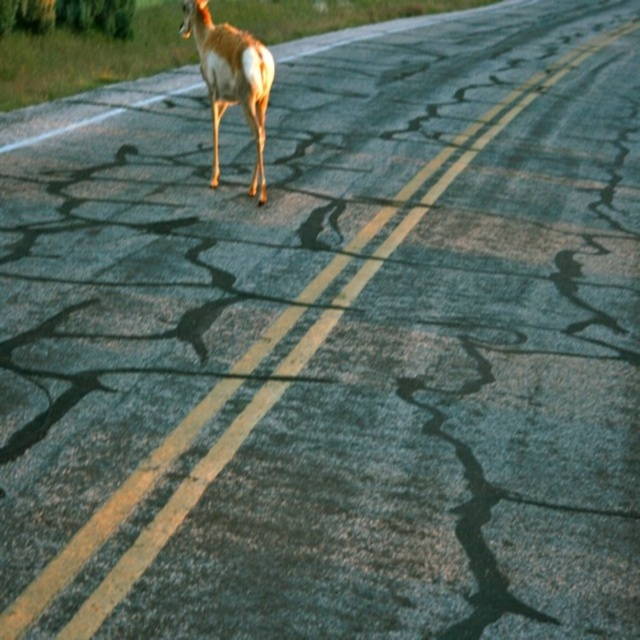Deer: (177, 0, 275, 204)
